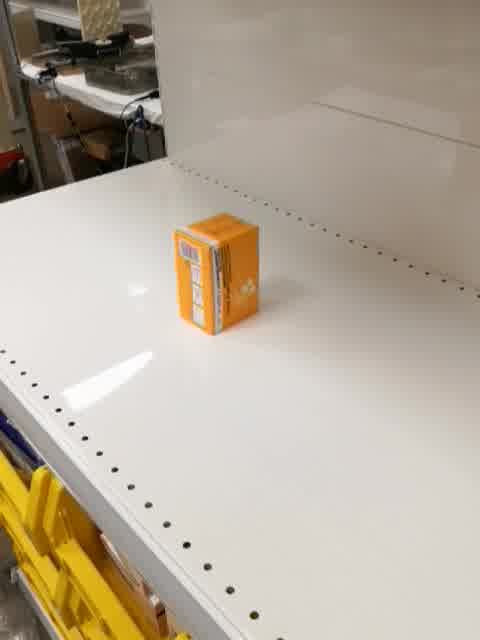jasminetea: (173, 211, 260, 336)
